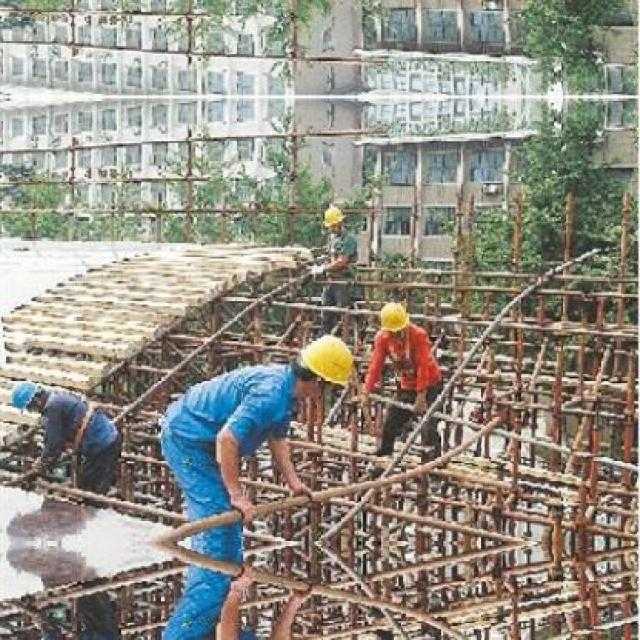helmet: (292, 328, 354, 404), (7, 379, 51, 415), (375, 297, 410, 340), (320, 200, 348, 234)
